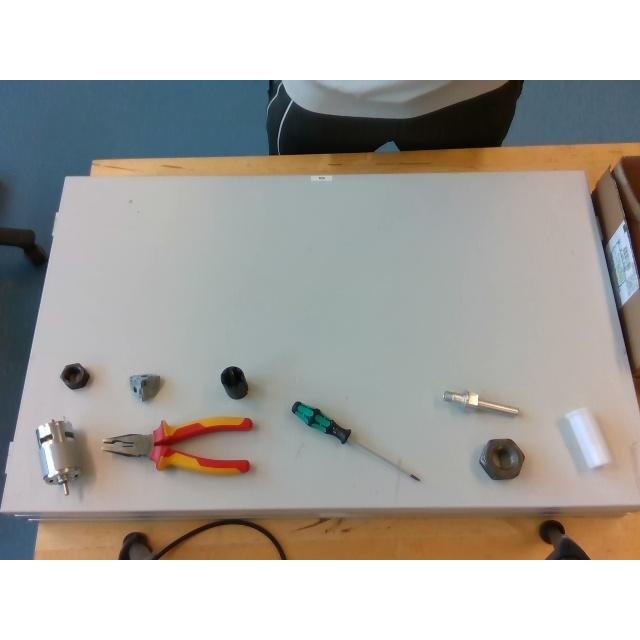M20: (60, 363, 88, 389)
M30: (480, 440, 524, 480)
Motor2: (35, 419, 81, 493)
Screwdriver: (290, 402, 422, 482)
Spacer: (564, 408, 612, 468)
